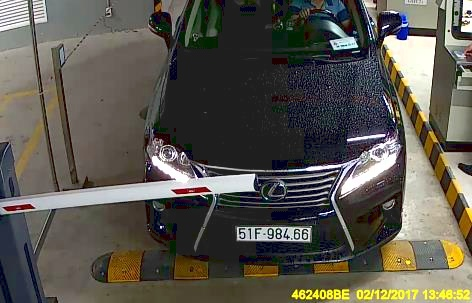plate: (234, 218, 318, 248)
